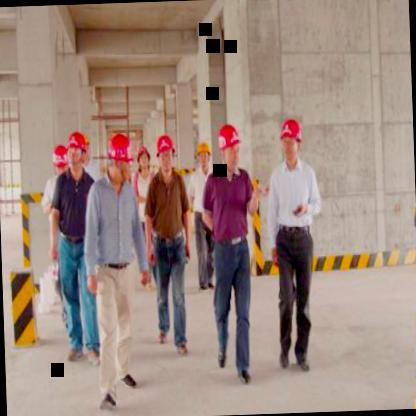helmet: (105, 127, 134, 187), (276, 113, 304, 166), (216, 120, 244, 170), (67, 128, 92, 174), (155, 128, 177, 177), (50, 141, 70, 176), (195, 140, 213, 176), (134, 142, 152, 173)
